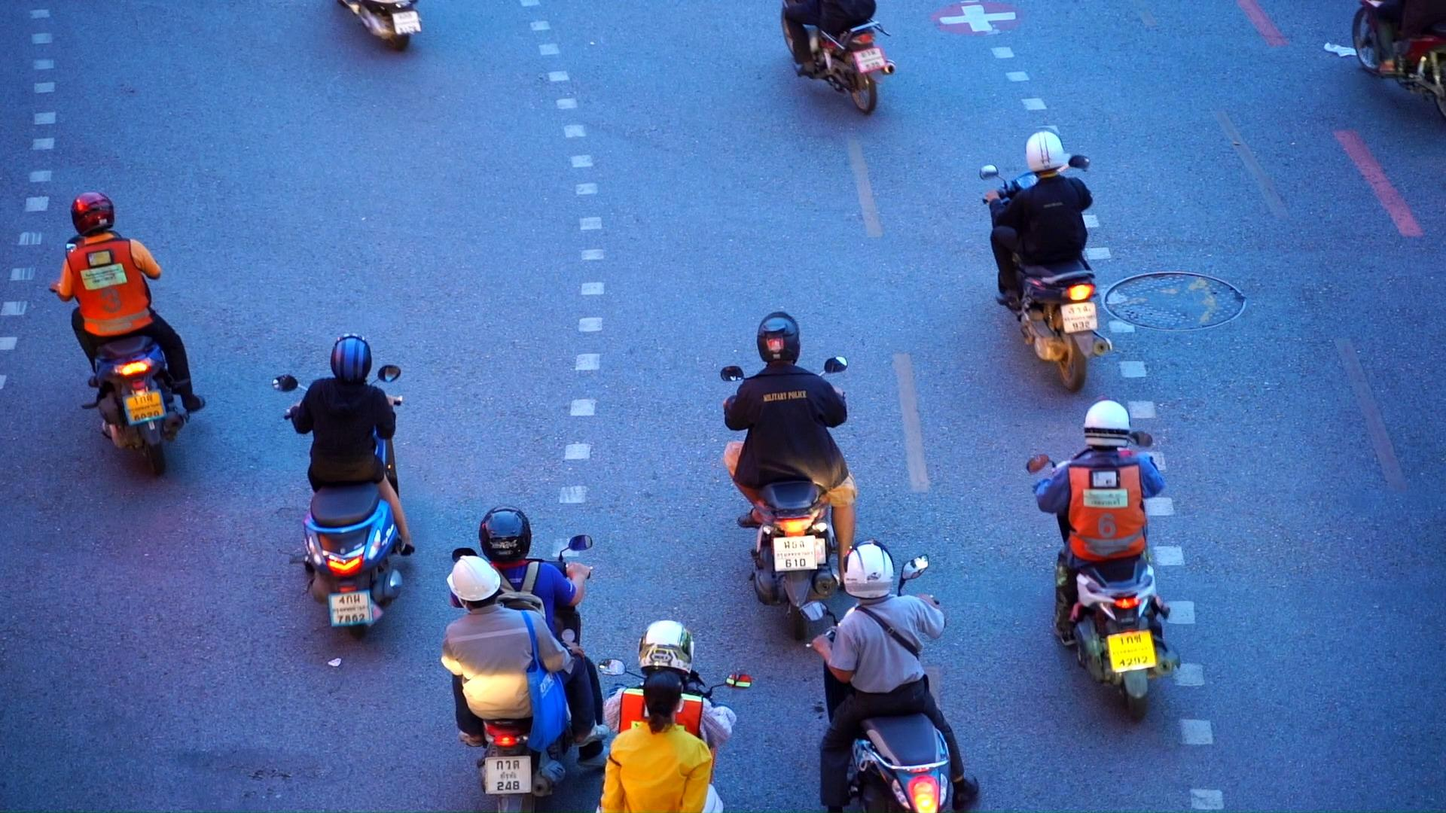driver: (440, 504, 610, 813), (1025, 395, 1180, 721), (797, 539, 979, 813), (720, 311, 860, 643), (48, 193, 206, 476), (272, 332, 415, 639), (980, 127, 1114, 392), (595, 620, 751, 813), (782, 0, 896, 115), (1352, 0, 1446, 121)
helmet: (639, 619, 696, 681), (843, 539, 895, 600), (447, 554, 502, 611), (478, 505, 531, 564), (1083, 394, 1131, 451), (757, 311, 801, 368), (330, 332, 372, 385), (1024, 127, 1065, 178), (71, 192, 115, 237)
no-helmet: (644, 670, 685, 734)
